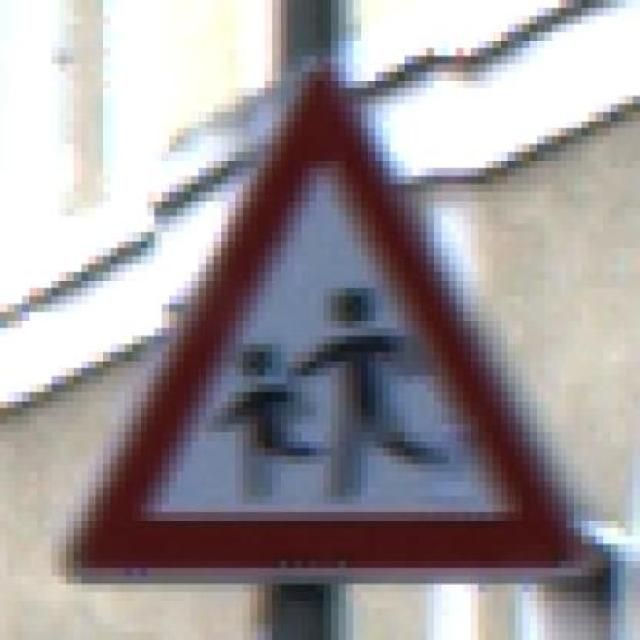Beware of children: (59, 55, 603, 592)
